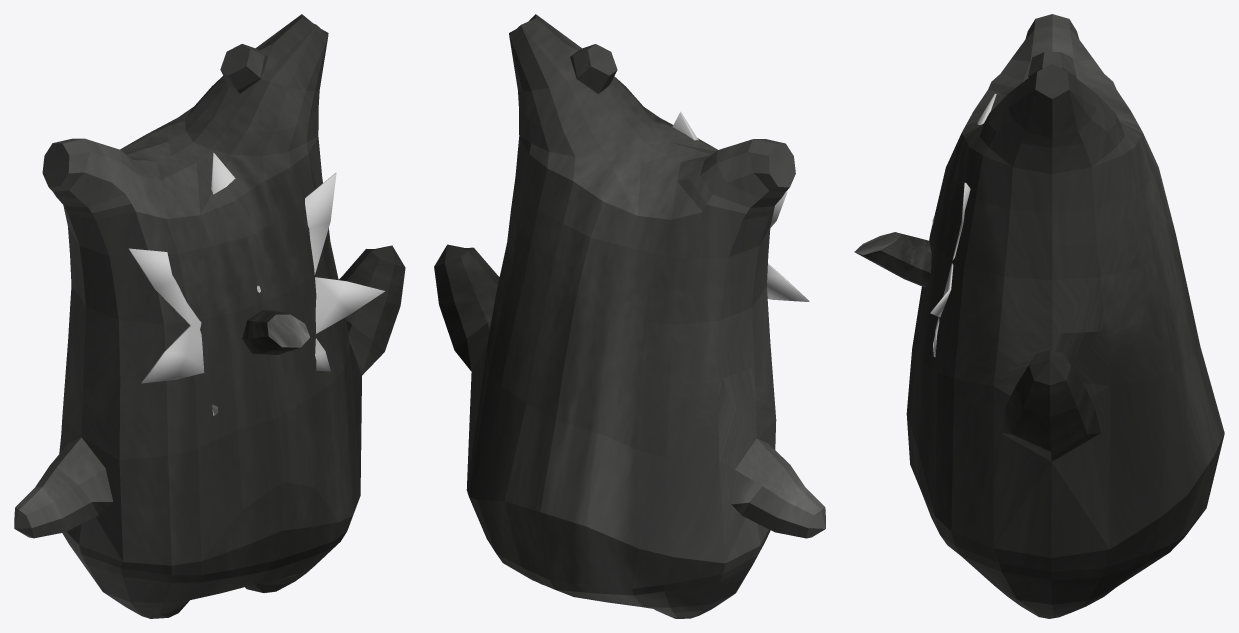
The model's file is frame_0036.obj.
The picture shows the model from 3 angles, left to right: view 1: azimuth 30°, elevation 25°; view 2: azimuth 150°, elevation 25°; view 3: azimuth 270°, elevation 25°; orthographic projection.
Parts seen in each view (by area): view 1: korok, leaf, nose; view 2: korok, leaf; view 3: korok, nose, leaf.
Boxes of the visible parts, bbox=[...] form: korok: bbox=[14, 14, 405, 618]; leaf: bbox=[128, 152, 385, 415]; nose: bbox=[242, 310, 310, 355]; korok: bbox=[434, 14, 825, 618]; leaf: bbox=[672, 111, 809, 301]; korok: bbox=[906, 14, 1224, 618]; nose: bbox=[854, 232, 931, 287]; leaf: bbox=[930, 93, 996, 357].
Bounding box in the file's own units: 1.66 × 2.31 × 1.36.
